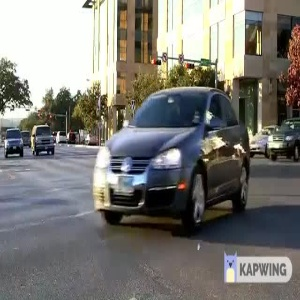car: (90, 83, 251, 242)
